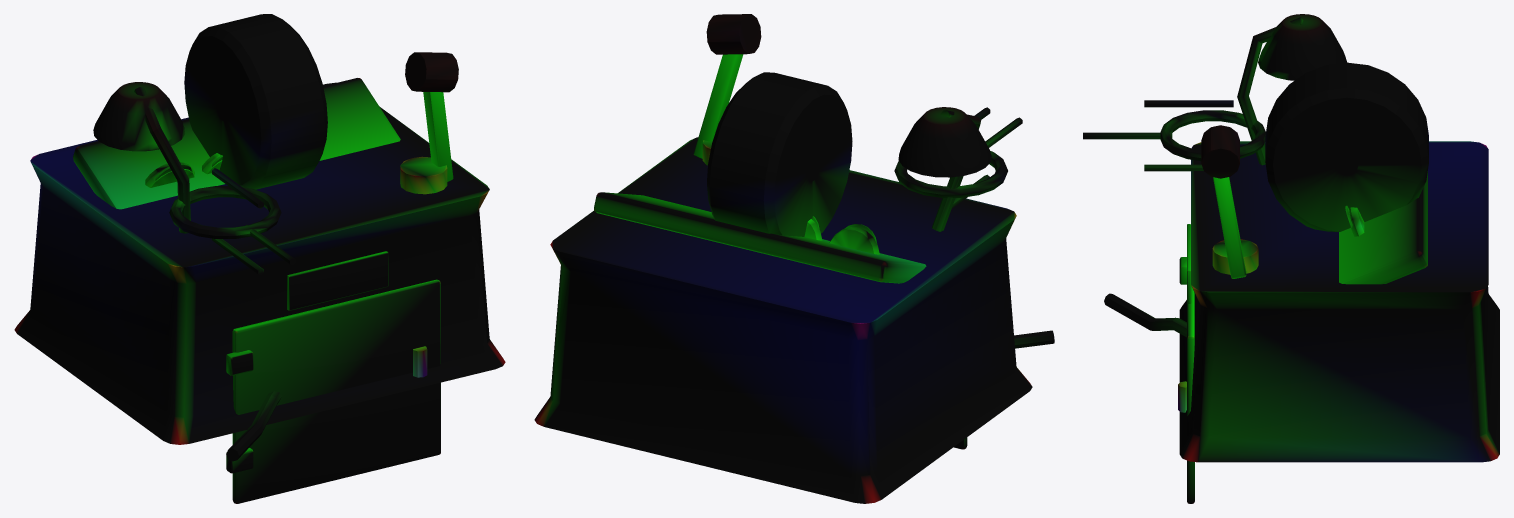
Rendered from aqs002_console.glb.
The picture shows the model from 3 angles, left to right: view 1: azimuth 30°, elevation 25°; view 2: azimuth 150°, elevation 25°; view 3: azimuth 270°, elevation 25°; orthographic projection. The views are drawn at different scales.
Parts seen in each view (by area): view 1: PressConsole; view 2: PressConsole; view 3: PressConsole.
Boxes of the visible parts, x1,y1,x2,y2 form: PressConsole: (14,14,505,503); PressConsole: (534,14,1054,503); PressConsole: (1083,14,1499,503).
Bounding box in the file's own units: 1.05 × 1.13 × 1.12.
